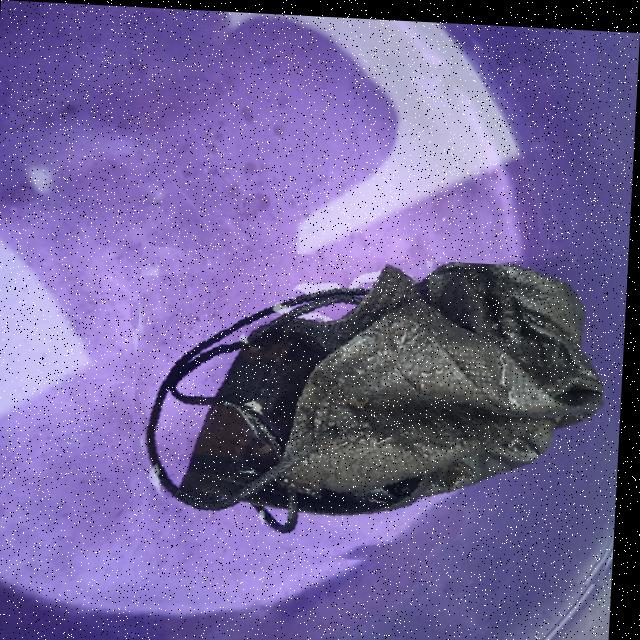litter: (131, 244, 630, 579)
